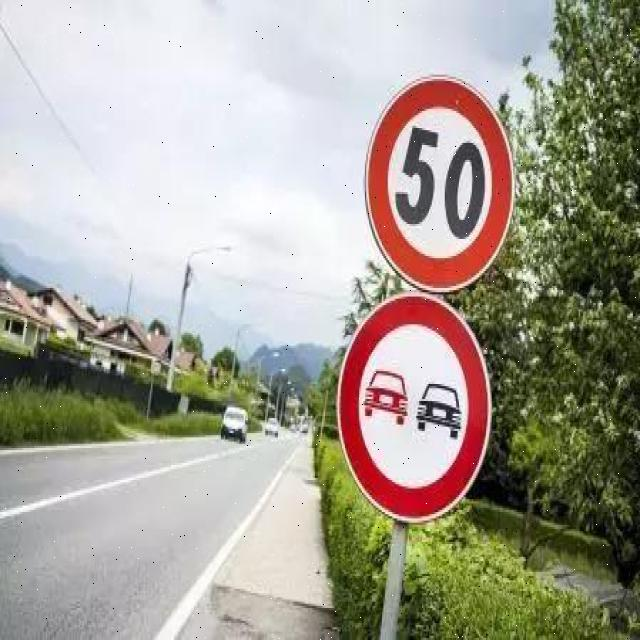speed limit 50: (364, 79, 514, 295)
